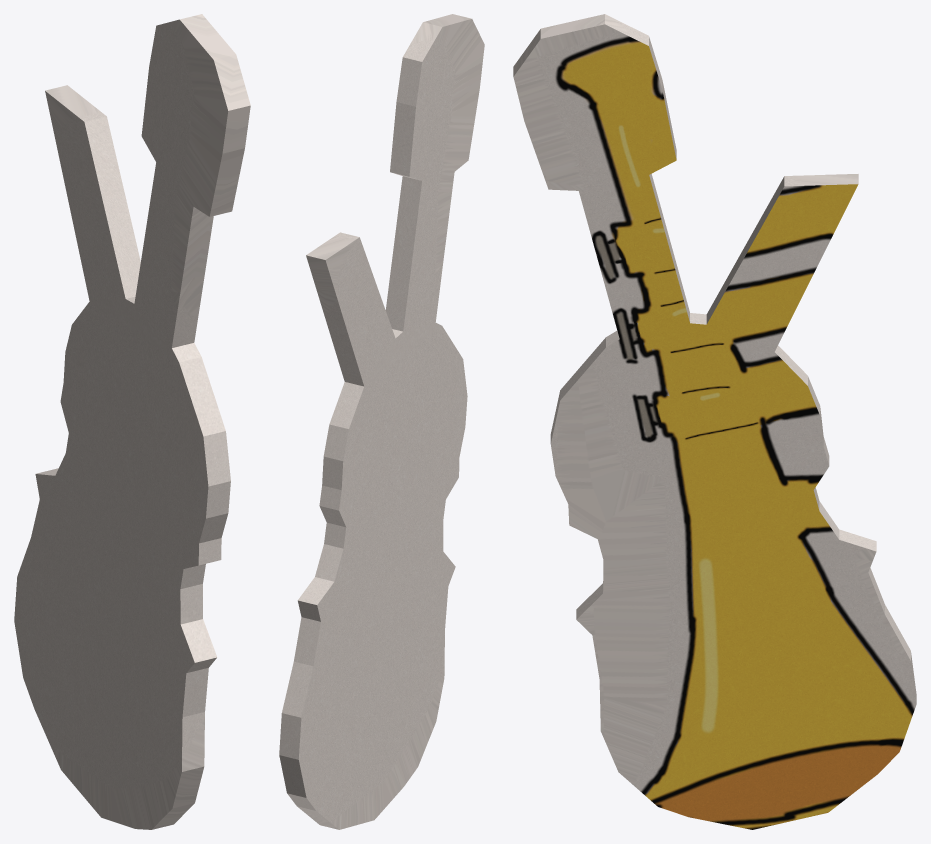
The model's file is Eddy please tell me theres no more mirroring .fbx.
3 views of the same model, side by side, from view 1: azimuth 30°, elevation 25°; view 2: azimuth 150°, elevation 25°; view 3: azimuth 270°, elevation 25° (orthographic). The views are drawn at different scales.
Parts seen in each view (by area): view 1: Plane; view 2: Plane; view 3: Plane.
Part boxes in pixels (<box>): Plane: <box>14,14,250,829</box>; Plane: <box>279,14,484,829</box>; Plane: <box>513,14,916,829</box>.
Bounding box in the file's own units: 0.5514 × 20.01 × 9.07.
